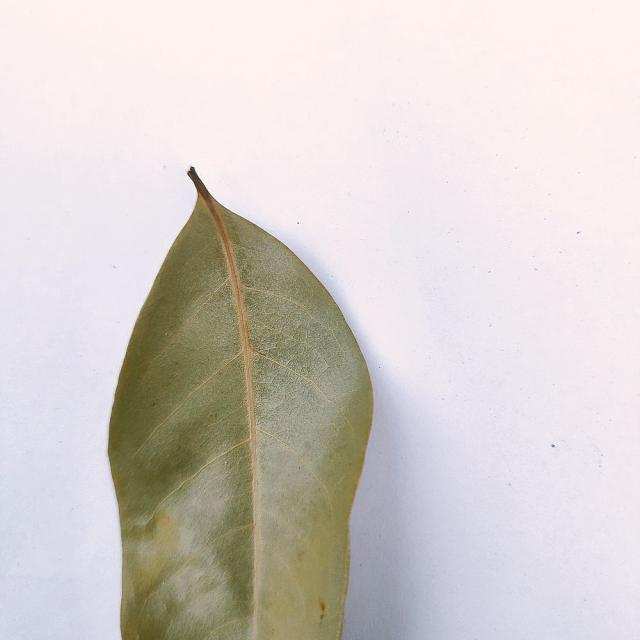Dry_Leaf-Lychee: (107, 169, 374, 639)
